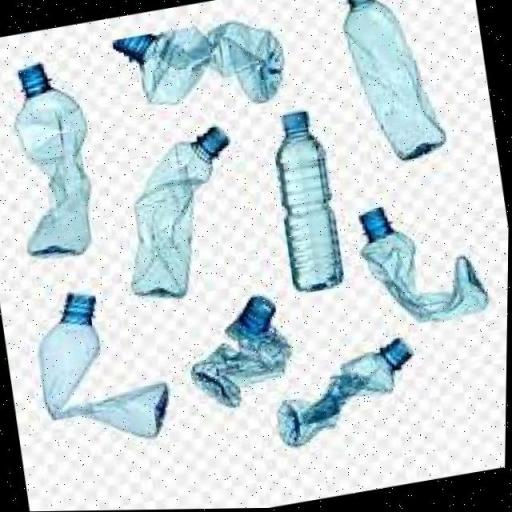plastic: (20, 272, 188, 462), (109, 112, 258, 311), (344, 175, 504, 349), (0, 45, 118, 273), (260, 319, 436, 468), (323, 0, 465, 181), (112, 3, 292, 131), (252, 99, 356, 309), (175, 288, 302, 421)
